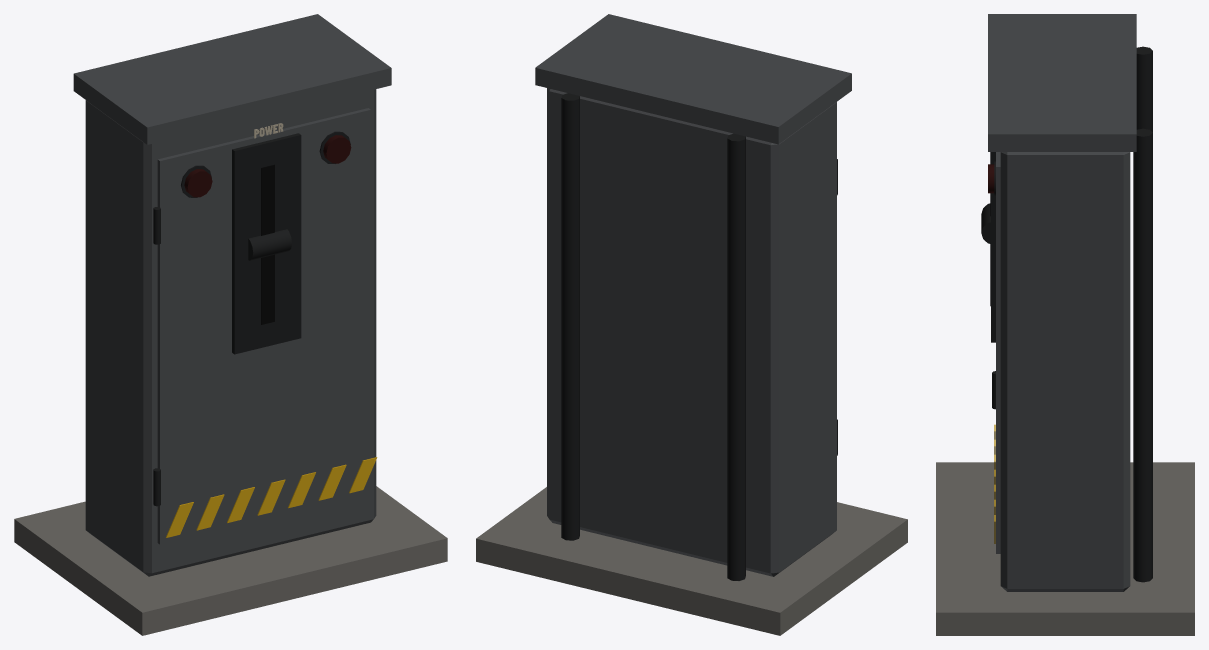
The model's file is power_switch.gltf.
3 views of the same model, side by side, from view 1: azimuth 30°, elevation 25°; view 2: azimuth 150°, elevation 25°; view 3: azimuth 270°, elevation 25° (orthographic).
Parts seen in each view (by area): view 1: power_switch; view 2: power_switch; view 3: power_switch.
Boxes of the visible parts, <box> form: power_switch: <box>14,14,447,635</box>; power_switch: <box>476,14,907,635</box>; power_switch: <box>936,14,1194,635</box>.
Bounding box in the file's own units: 1.1 × 1.66 × 0.8.
